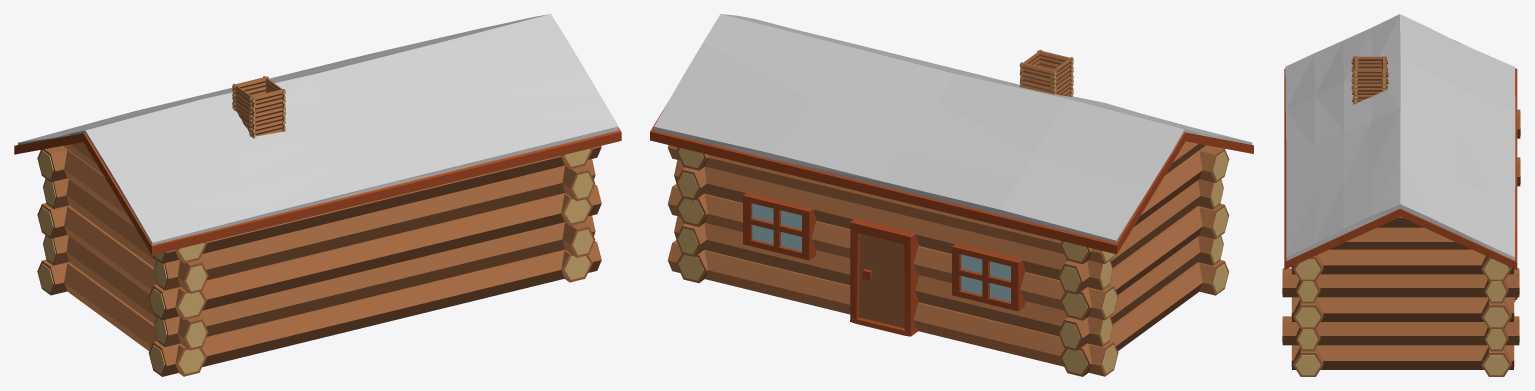
File: house.fbx
3 renders of one model, left to right at view 1: azimuth 30°, elevation 25°; view 2: azimuth 150°, elevation 25°; view 3: azimuth 270°, elevation 25°, orthographic. The views are drawn at different scales.
Parts seen in each view (by area): view 1: Plane.001, Cylinder.004, Cylinder.005, Cylinder, Plane, Cylinder.001, Cylinder.007, Cylinder.003, Cylinder.002, Cylinder.006, Cylinder.018; view 2: Plane.001, Cylinder.007, Cylinder.006, Cylinder, Plane, Cylinder.001, Cube.001, Cube, Cube.003, Cube.006, Cylinder.004, Cylinder.003 (+5 smaller); view 3: Plane.001, Cylinder.003, Cylinder.002, Plane, Cylinder.008, Cylinder.004, Cylinder.007, Cylinder.006, Cylinder.005, Cylinder.021, Cylinder.022, Cylinder.020 (+1 smaller).
Boxes of the visible parts, <box> form: Plane.001: <box>18,14,618,245</box>; Cylinder.004: <box>148,146,601,376</box>; Cylinder.005: <box>154,159,595,346</box>; Cylinder: <box>62,146,206,376</box>; Plane: <box>14,128,621,255</box>; Cylinder.001: <box>66,179,208,350</box>; Cylinder.007: <box>37,146,67,295</box>; Cylinder.003: <box>561,148,592,282</box>; Cylinder.002: <box>562,166,595,257</box>; Cylinder.006: <box>43,178,68,265</box>; Cylinder.018: <box>248,89,285,119</box>; Plane.001: <box>654,14,1252,242</box>; Cylinder.007: <box>667,145,1118,376</box>; Cylinder.006: <box>674,160,1112,346</box>; Cylinder: <box>1059,145,1206,376</box>; Plane: <box>650,104,1253,254</box>; Cylinder.001: <box>1058,180,1200,350</box>; Cube.001: <box>859,233,904,328</box>; Cube: <box>850,218,918,336</box>; Cube.003: <box>743,192,816,260</box>; Cube.006: <box>952,243,1025,311</box>; Cylinder.004: <box>1199,145,1229,295</box>; Cylinder.003: <box>676,147,707,283</box>; Plane.001: <box>1285,14,1515,260</box>; Cylinder.003: <box>1291,249,1514,369</box>; Cylinder.002: <box>1282,268,1519,345</box>; Plane: <box>1284,40,1517,269</box>; Cylinder.008: <box>1329,217,1471,249</box>; Cylinder.004: <box>1293,255,1323,376</box>; Cylinder.007: <box>1481,256,1511,376</box>; Cylinder.006: <box>1484,280,1508,351</box>; Cylinder.005: <box>1296,280,1320,351</box>; Cylinder.021: <box>1353,69,1387,87</box>; Cylinder.022: <box>1352,56,1386,72</box>; Cylinder.020: <box>1352,73,1388,83</box>.
Size of the model in its own units: 1651 by 760 by 859.
